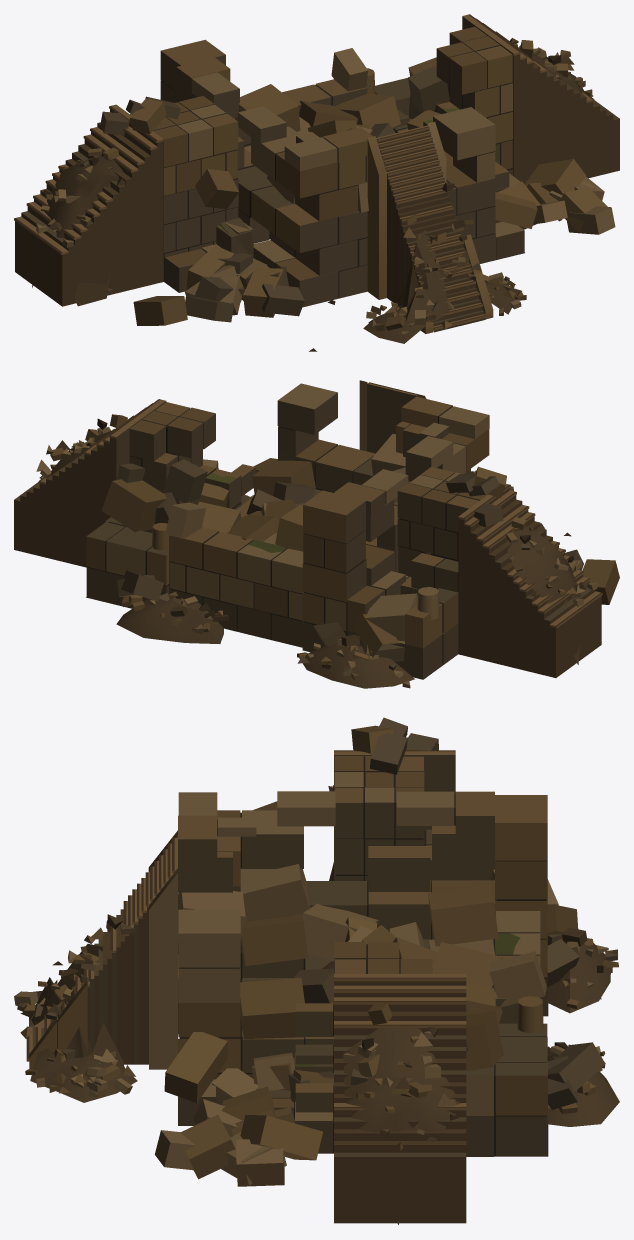
Rendered from ZonRuin15b.glb.
3 renders of one model, top to bottom at view 1: azimuth 30°, elevation 25°; view 2: azimuth 150°, elevation 25°; view 3: azimuth 270°, elevation 25°, orthographic. The views are drawn at different scales.
Visible parts, largest first — view 1: st_rubble; view 2: st_rubble; view 3: st_rubble.
Part boxes in pixels (x1,y1,x2,y2): st_rubble: (14,14,619,351); st_rubble: (14,380,619,688); st_rubble: (14,717,619,1224).
Bounding box in the file's own units: 23.26 × 6.88 × 16.96.
